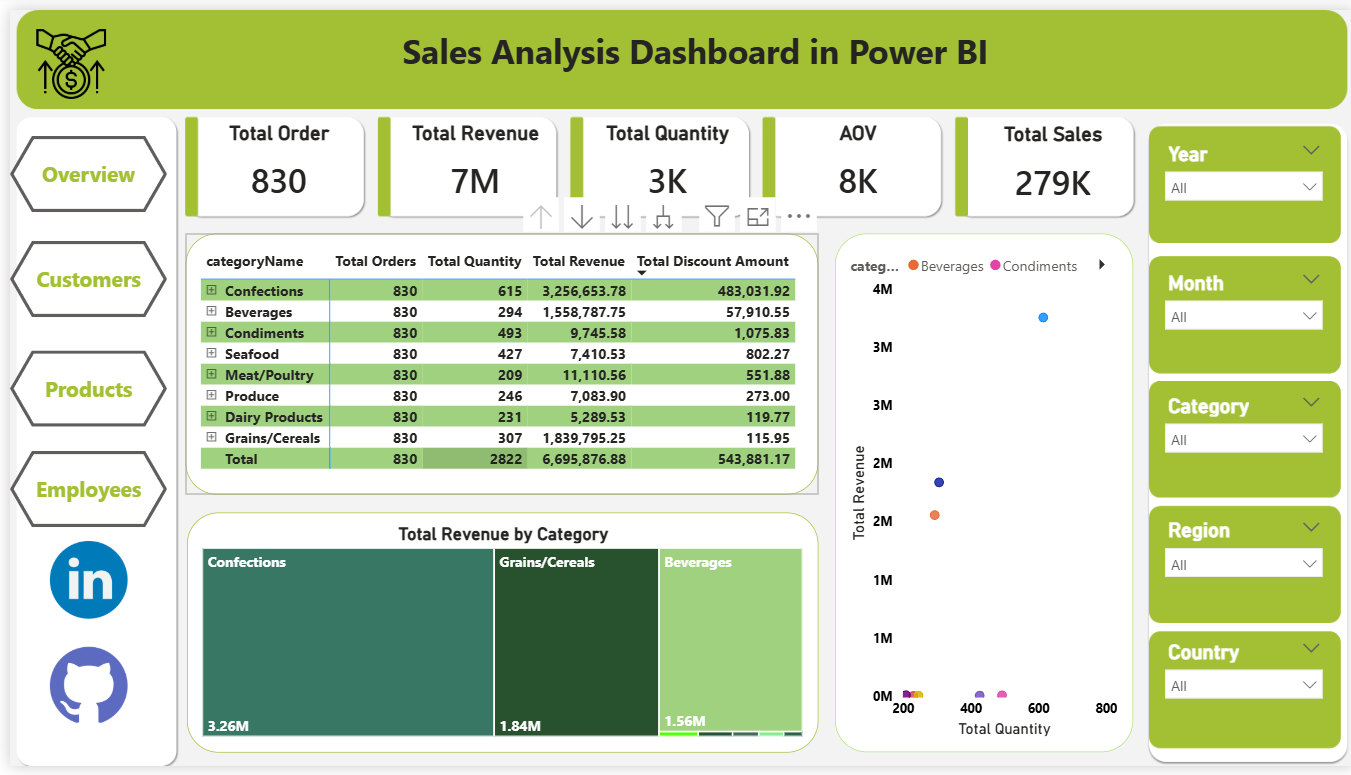

This screenshot's page, from the dashboard's own definition file:
{"tool":"powerbi","page":{"name":"Page 1","canvas":[1280,720],"ordinal":0},"visuals":[{"type":"textbox","box":[247.3,12.6,811.2,78.8],"z":0},{"type":"actionButton","box":[0,119.7,149.6,72.5],"z":1000},{"type":"actionButton","box":[0,220.5,149.6,72.5],"z":2000},{"type":"actionButton","box":[0,324.5,149.6,72.5],"z":3000},{"type":"actionButton","box":[0,420.5,149.6,72.5],"z":4000},{"type":"image","box":[20.5,505.6,110.3,74],"z":5000},{"type":"image","box":[20.5,606.4,110.3,74],"z":6000},{"type":"slicer","fields":{"Values":["Dates.Year"]},"box":[1090,119.7,170.1,100.8],"z":7000},{"type":"slicer","fields":{"Values":["Dates.Month"]},"box":[1090,242.6,170.1,100.8],"z":8000},{"type":"slicer","fields":{"Values":["customers.region"]},"box":[1090,478.8,170.1,100.8],"z":9000},{"type":"slicer","fields":{"Values":["categories.categoryName"]},"box":[1090,360.7,170.1,100.8],"z":10000},{"type":"slicer","fields":{"Values":["customers.country"]},"box":[1090,593.8,170.1,100.8],"z":11000},{"type":"cardVisual","title":"Total Order","fields":{"Data":["_Measures.Total Orders"]},"box":[179.6,105.5,152.8,86.6],"z":12000},{"type":"cardVisual","title":"Total Revenue","fields":{"Data":["_Measures.Total Revenue"]},"box":[367,105.5,152.8,86.6],"z":13000},{"type":"cardVisual","title":"Total Quantity","fields":{"Data":["_Measures.Total Quantity"]},"box":[549.7,105.5,152.8,86.6],"z":14000},{"type":"cardVisual","title":"AOV","fields":{"Data":["_Measures.AOV"]},"box":[730.8,105.5,152.8,86.6],"z":15000},{"type":"cardVisual","title":"Total Sales","fields":{"Data":["_Measures.Total Sales"]},"box":[916.7,107.1,152.8,86.6],"z":16000},{"type":"image","box":[20,17.1,77.1,68.6],"z":17000},{"type":"areaChart","fields":{"Category":["Dates.Month"],"Y":["_Measures.Total Revenue"]},"box":[168.5,209.5,433.1,225.2],"z":18000},{"type":"donutChart","fields":{"Y":["_Measures.Total Revenue"],"Category":["categories.categoryName"]},"box":[168.8,460.6,432.9,234.3],"z":19000},{"type":"barChart","fields":{"Y":["_Measures.Total Revenue"],"Category":["customers.country"]},"box":[625.4,210.5,434.8,224.4],"z":20000},{"type":"lineChart","fields":{"Y":["_Measures.Total Revenue"],"Category":["Dates.Year"]},"box":[625,461,435,234],"z":21000}]}

Visuals, with their boxes in screenshot pixels (x1, y1, x2, y2), scaled from the page's 1280x720 canvas onto the 1351x775 screenshot:
textbox: crop(261, 14, 1117, 98)
actionButton: crop(0, 129, 158, 207)
actionButton: crop(0, 237, 158, 315)
actionButton: crop(0, 349, 158, 427)
actionButton: crop(0, 453, 158, 531)
image: crop(22, 544, 138, 624)
image: crop(22, 653, 138, 732)
slicer - Dates.Year: crop(1150, 129, 1330, 237)
slicer - Dates.Month: crop(1150, 261, 1330, 370)
slicer - customers.region: crop(1150, 515, 1330, 624)
slicer - categories.categoryName: crop(1150, 388, 1330, 497)
slicer - customers.country: crop(1150, 639, 1330, 748)
"Total Order" cardVisual: crop(190, 114, 351, 207)
"Total Revenue" cardVisual: crop(387, 114, 549, 207)
"Total Quantity" cardVisual: crop(580, 114, 741, 207)
"AOV" cardVisual: crop(771, 114, 933, 207)
"Total Sales" cardVisual: crop(968, 115, 1129, 208)
image: crop(21, 18, 102, 92)
areaChart - Dates.Month x _Measures.Total Revenue: crop(178, 226, 635, 468)
donutChart - _Measures.Total Revenue x categories.categoryName: crop(178, 496, 635, 748)
barChart - _Measures.Total Revenue x customers.country: crop(660, 227, 1119, 468)
lineChart - _Measures.Total Revenue x Dates.Year: crop(660, 496, 1119, 748)
